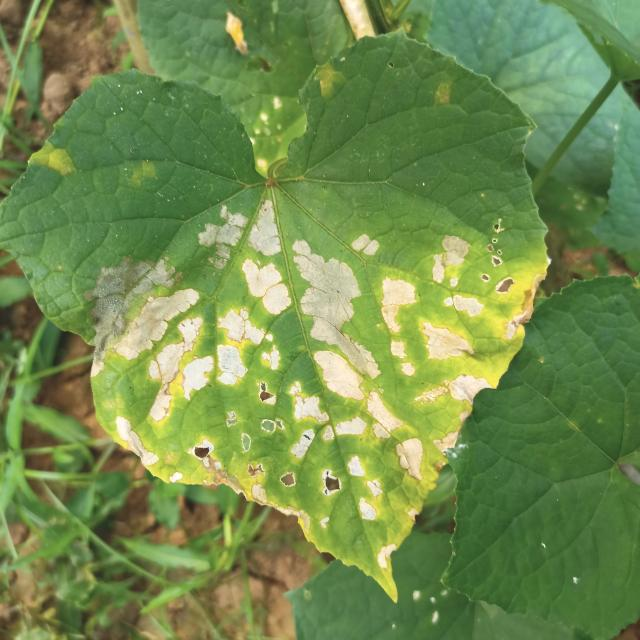disease_cucumber: (82, 204, 535, 526), (23, 139, 90, 183)
